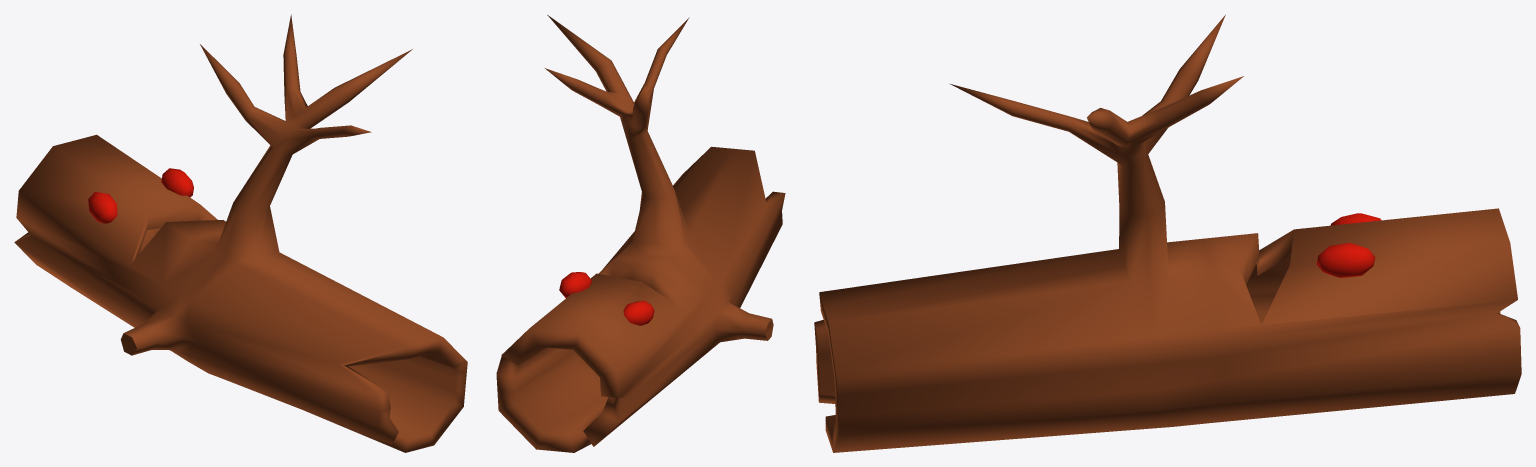
The model's file is EvilTree3.fbx.
The picture shows the model from 3 angles, left to right: view 1: azimuth 30°, elevation 25°; view 2: azimuth 150°, elevation 25°; view 3: azimuth 270°, elevation 25°; orthographic projection. The views are drawn at different scales.
Parts seen in each view (by area): view 1: EvilTree3; view 2: EvilTree3; view 3: EvilTree3.
Boxes of the visible parts, bbox=[...] form: EvilTree3: bbox=[14, 14, 467, 452]; EvilTree3: bbox=[496, 15, 785, 452]; EvilTree3: bbox=[814, 14, 1521, 452].
Size of the model in its own units: 207 by 236 by 383.
